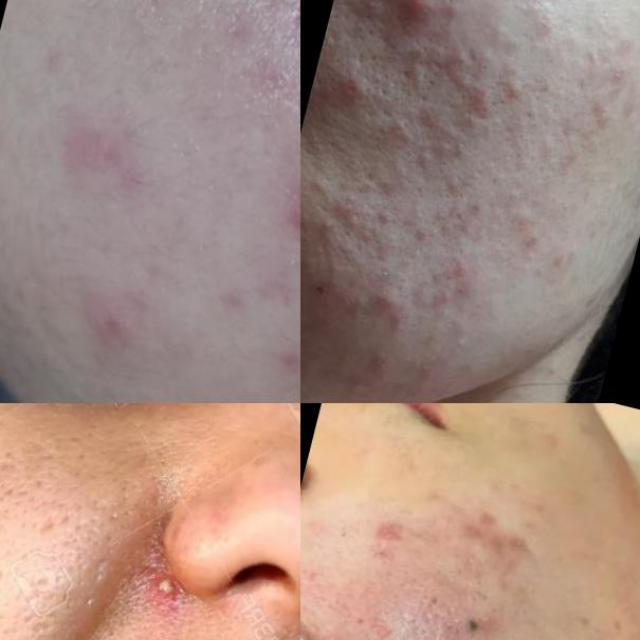8: (452, 598, 507, 640), (538, 134, 594, 175), (491, 66, 533, 108), (364, 276, 404, 320), (378, 0, 448, 22), (336, 66, 371, 102), (444, 253, 475, 283), (585, 98, 616, 127), (460, 192, 490, 221), (445, 275, 472, 303), (515, 227, 543, 253), (313, 212, 341, 237), (409, 221, 433, 244), (448, 330, 471, 352)
9: (138, 559, 196, 612)
blackheads: (436, 492, 545, 567), (366, 506, 424, 552)
dark spot: (422, 41, 452, 70), (469, 57, 498, 83), (369, 198, 395, 227), (448, 49, 471, 78)
